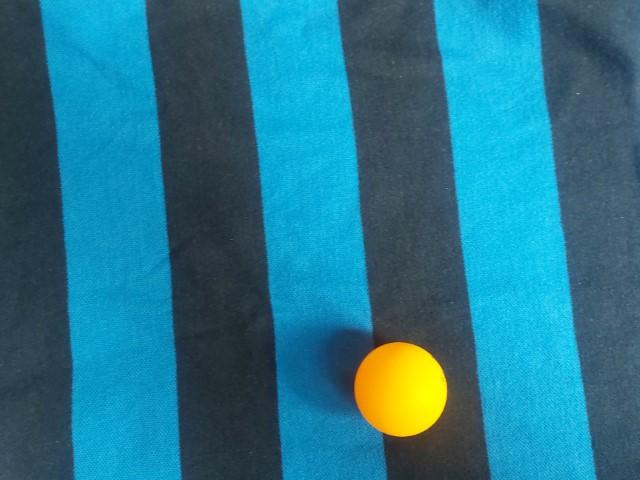oball: (182, 37, 290, 146)
